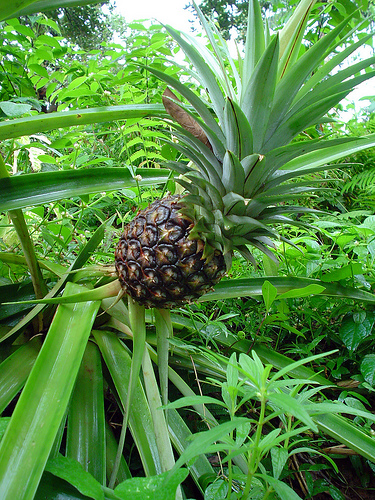pineapple: (112, 0, 373, 312)
